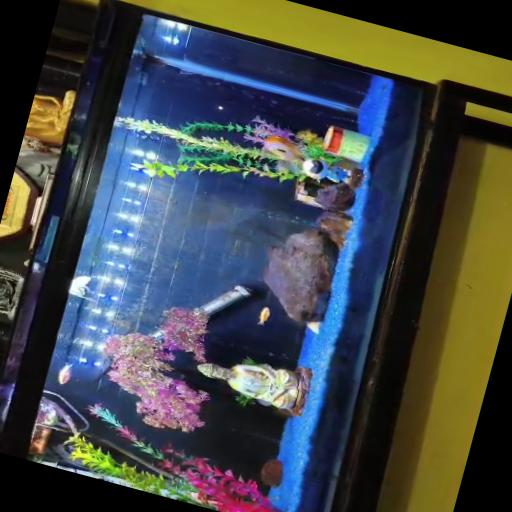Fish: (263, 136, 304, 172), (264, 136, 303, 162), (69, 276, 95, 301), (58, 364, 73, 384), (258, 308, 270, 325), (307, 322, 320, 334)
